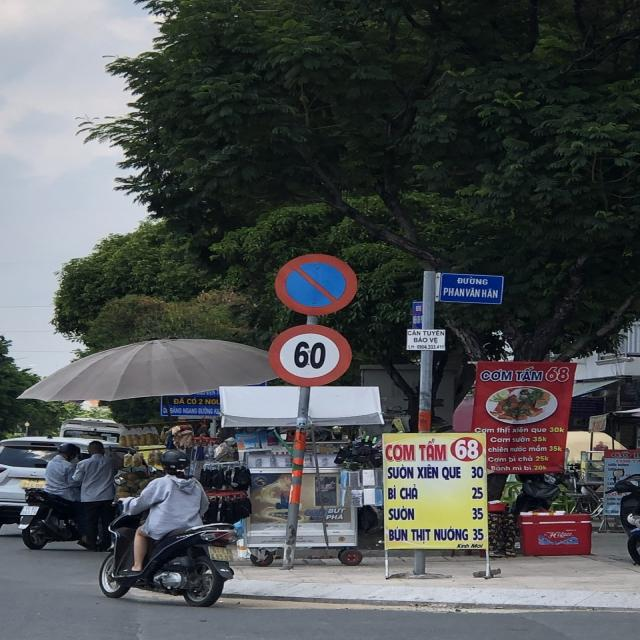Bien bao cam do xe: (268, 249, 368, 317)
Bien bao toc do toi da cho phep: (267, 319, 359, 393)
